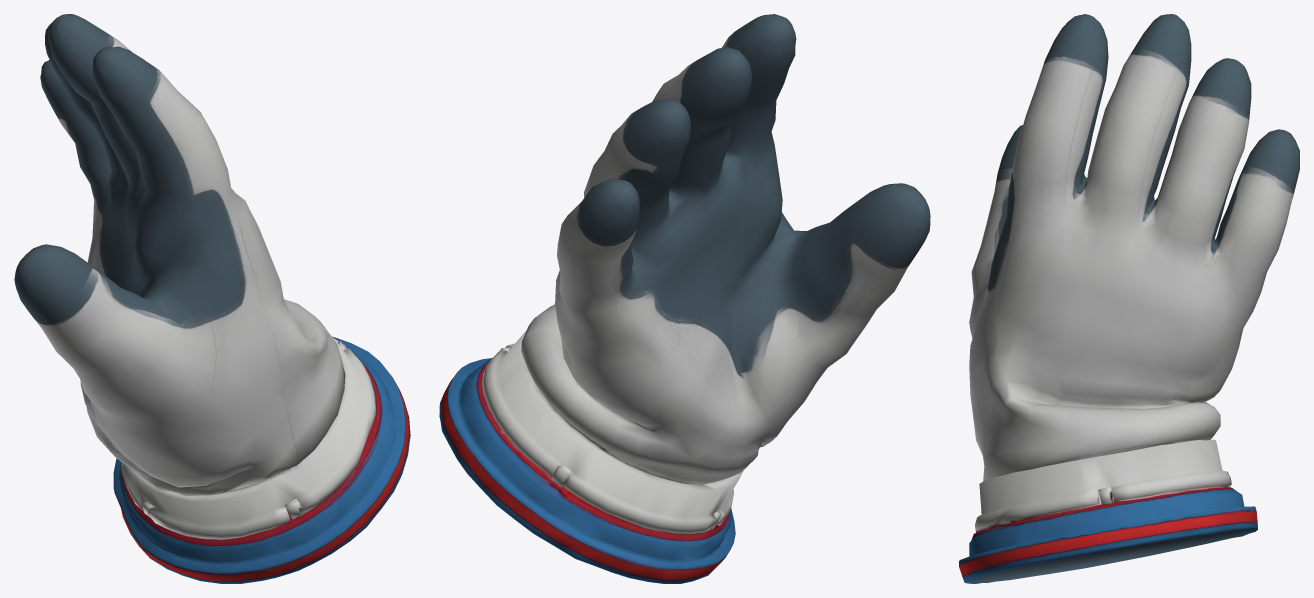
File: selected.glb
3 renders of one model, left to right at view 1: azimuth 30°, elevation 25°; view 2: azimuth 150°, elevation 25°; view 3: azimuth 270°, elevation 25°, orthographic. The views are drawn at different scales.
Visible parts, largest first — view 1: tripo_node_c5a224ec-bdab-4182-8af4-504e80d62e1e; view 2: tripo_node_c5a224ec-bdab-4182-8af4-504e80d62e1e; view 3: tripo_node_c5a224ec-bdab-4182-8af4-504e80d62e1e.
Boxes of the visible parts, left/top/right/bottom form: tripo_node_c5a224ec-bdab-4182-8af4-504e80d62e1e: left=14, top=14, right=410, bottom=583; tripo_node_c5a224ec-bdab-4182-8af4-504e80d62e1e: left=439, top=14, right=930, bottom=583; tripo_node_c5a224ec-bdab-4182-8af4-504e80d62e1e: left=959, top=14, right=1299, bottom=583.
Bounding box in the file's own units: 0.791 × 0.998 × 0.5879.
1 material, 1 textured.
